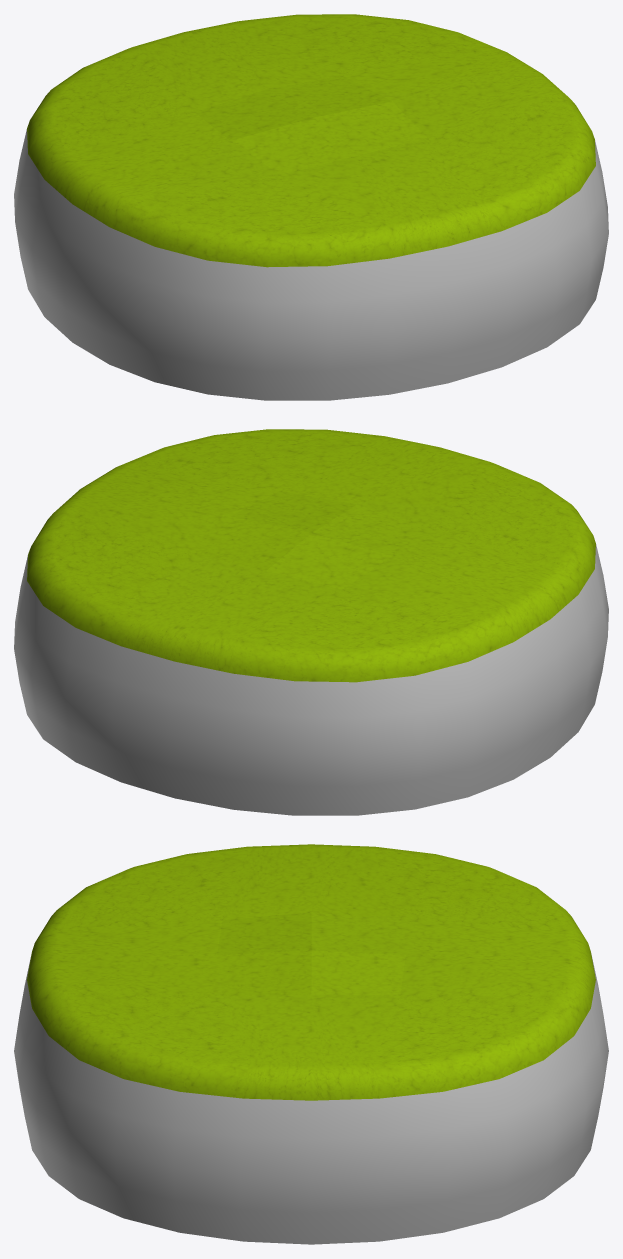
Rendered from TM_Rounded.fbx.
3 renders of one model, top to bottom at view 1: azimuth 30°, elevation 25°; view 2: azimuth 150°, elevation 25°; view 3: azimuth 270°, elevation 25°, orthographic. The views are drawn at different scales.
Visible parts, largest first — view 1: TM_Grass_BasicCube01.192; view 2: TM_Grass_BasicCube01.192; view 3: TM_Grass_BasicCube01.192.
Boxes of the visible parts, x1=… form: TM_Grass_BasicCube01.192: x1=14, y1=14, x2=608, y2=400; TM_Grass_BasicCube01.192: x1=14, y1=429, x2=608, y2=815; TM_Grass_BasicCube01.192: x1=14, y1=844, x2=608, y2=1244.
Bounding box in the file's own units: 6.75 × 2.15 × 6.69.
